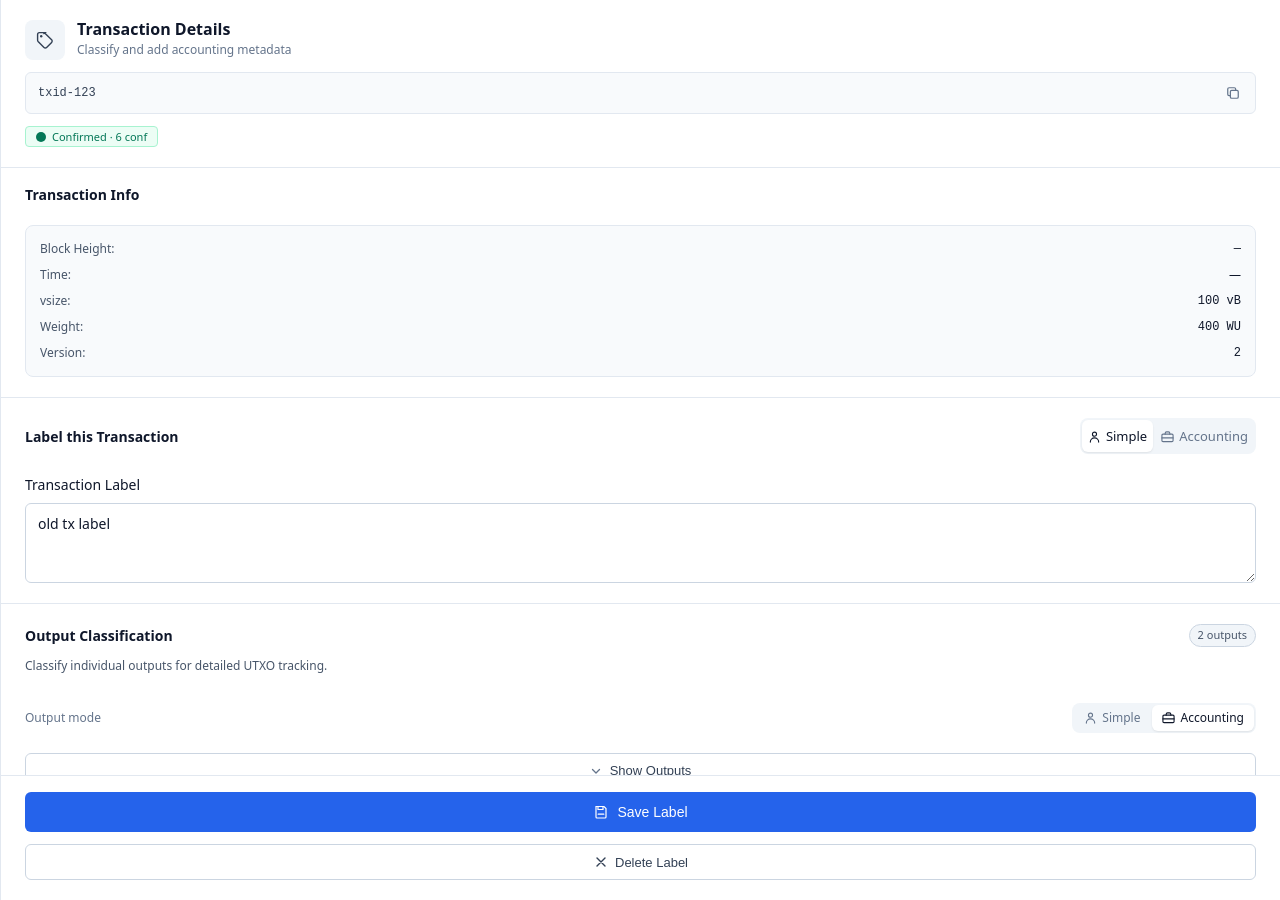
Test case: DetailPanel › save classification button is disabled when no classification is selected in accounting mode
Click the tab "Accounting" in the row of "Label this Transaction": (1205, 436) left=1155, top=420, right=1254, bottom=452
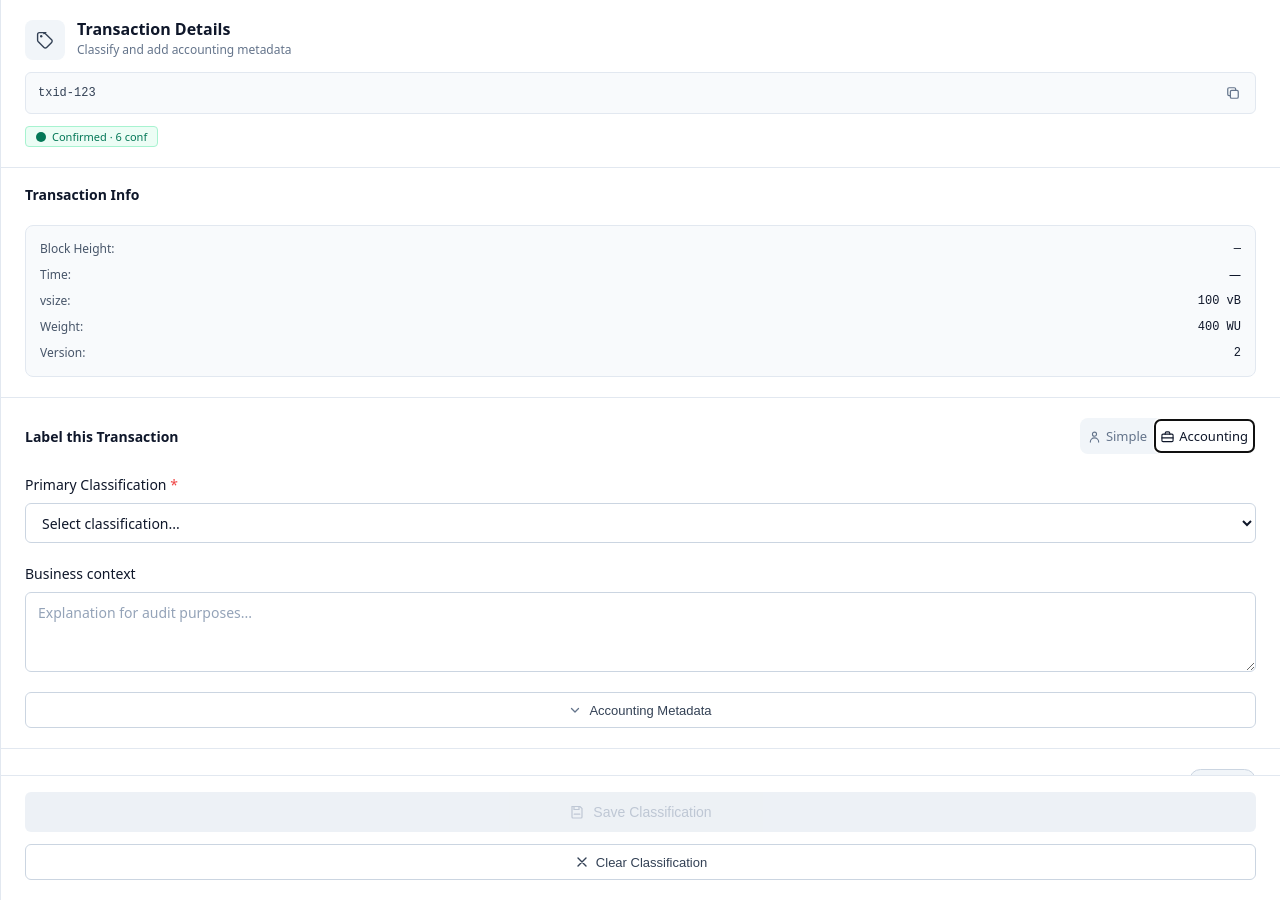
Result: the button "Save Classification" is disabled at left=25, top=792, right=1256, bottom=832
